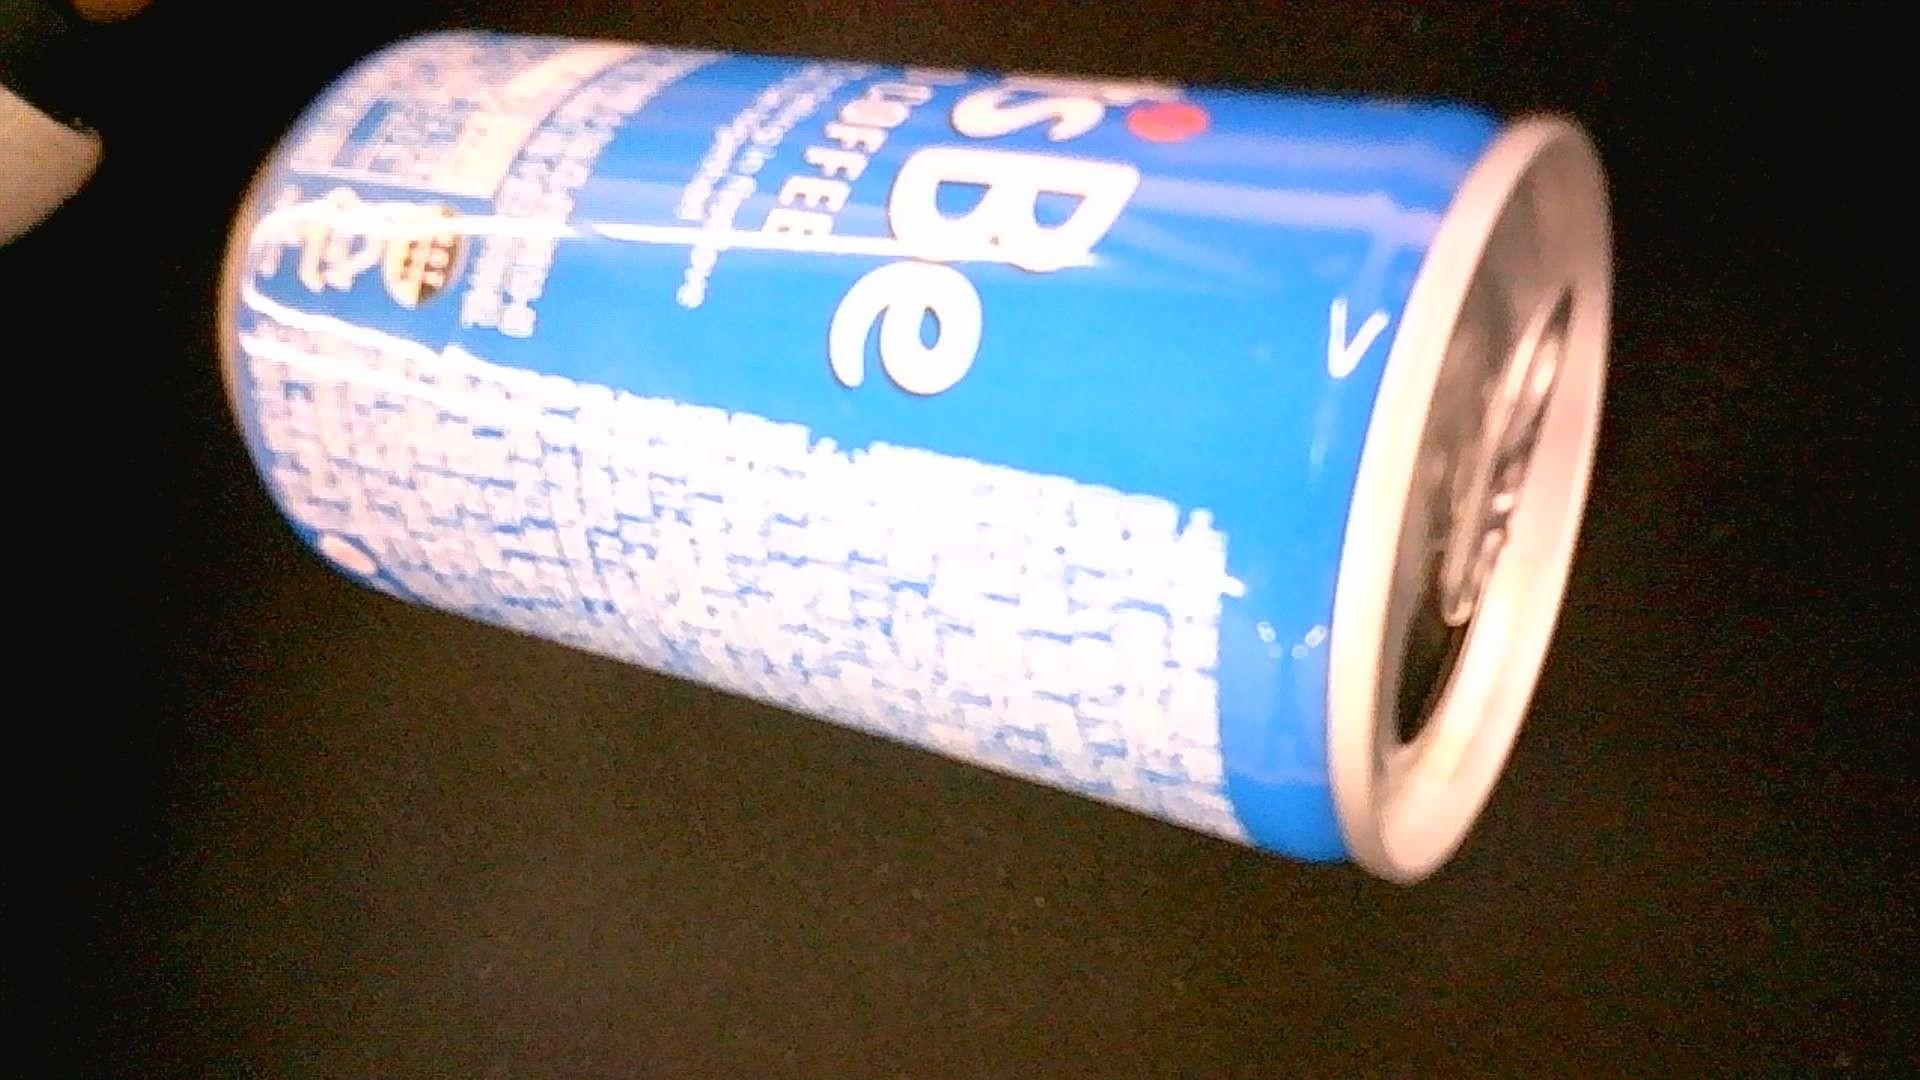letsbe: (220, 25, 1613, 881)
